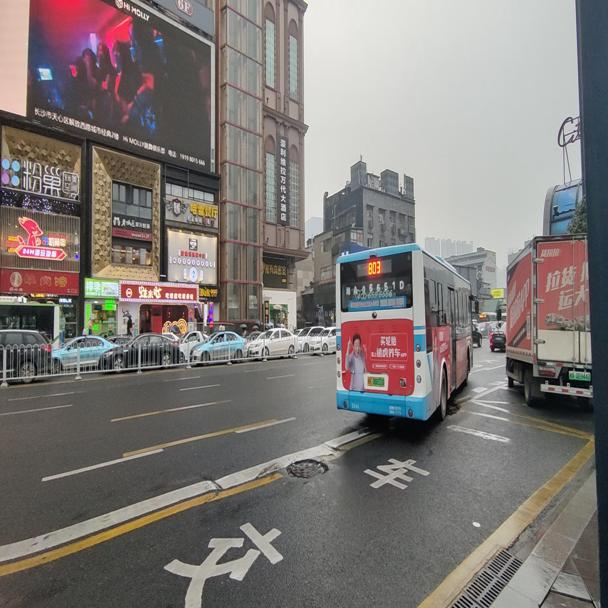bus: (334, 246, 480, 423)
screen: (367, 260, 381, 274)
